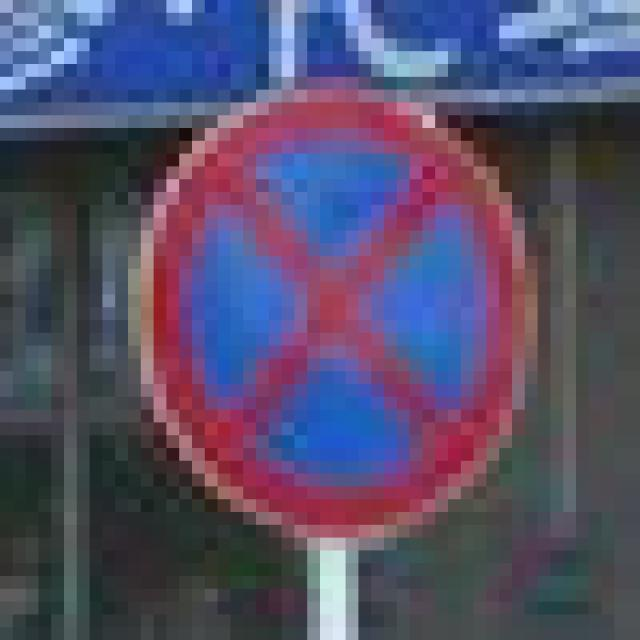no stopping or standing: (125, 79, 556, 545)
